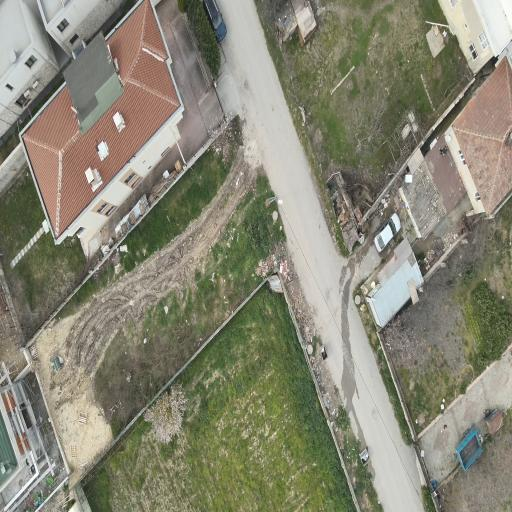car: (375, 213, 400, 252), (204, 0, 226, 43)
